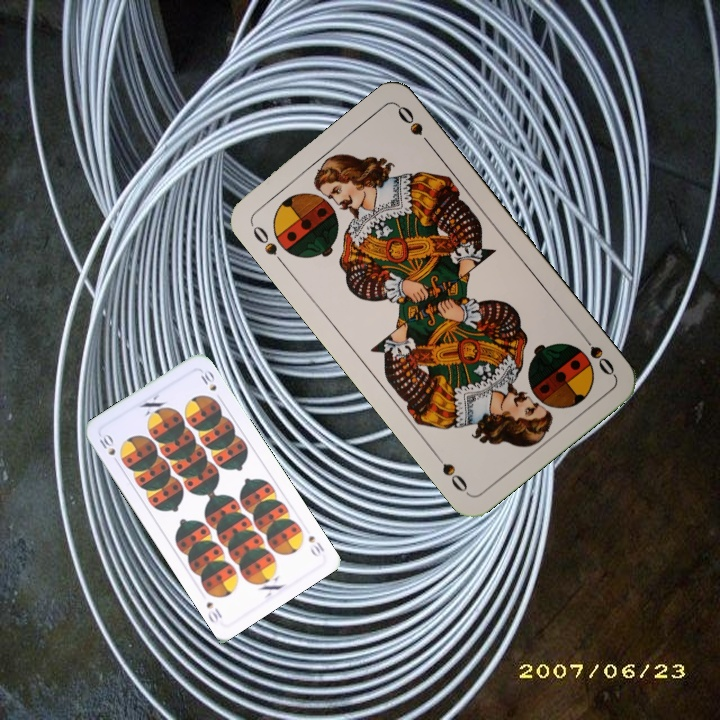S10: (95, 430, 122, 467), (304, 531, 327, 560)
SO: (247, 220, 289, 270), (576, 328, 617, 379)
